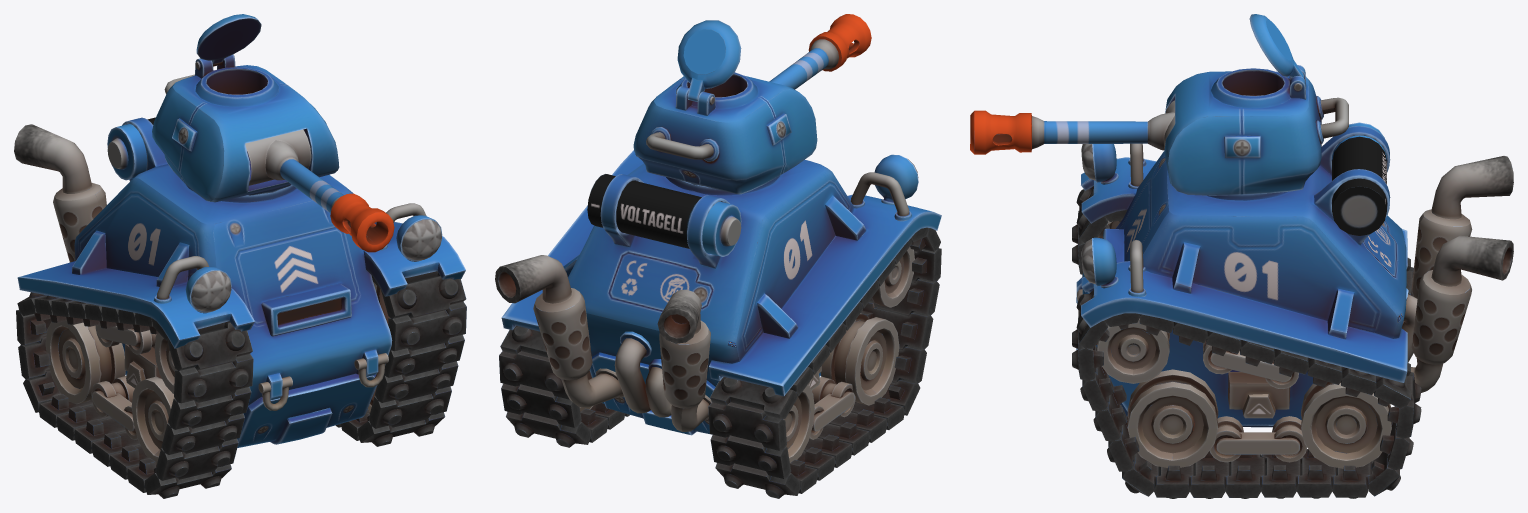
Rendered from LightTank_Full.fbx.
3 renders of one model, left to right at view 1: azimuth 30°, elevation 25°; view 2: azimuth 150°, elevation 25°; view 3: azimuth 270°, elevation 25°, orthographic. The views are drawn at different scales.
Visible parts, largest first — view 1: Body_mesh, TrackRight_mesh, Cupola_mesh, TrackLeft_mesh, Barrel_mesh, Exhaust_mesh, Hatch_mesh, 1.5VBattery_mesh, Hooks_mesh; view 2: Body_mesh, TrackRight_mesh, Cupola_mesh, Exhaust_mesh, TrackLeft_mesh, 1.5VBattery_mesh, Hatch_mesh, Barrel_mesh; view 3: Body_mesh, TrackLeft_mesh, Cupola_mesh, Exhaust_mesh, Barrel_mesh, 1.5VBattery_mesh, Hatch_mesh, TrackRight_mesh.
Part boxes in pixels (left/top/right/bottom): Body_mesh: left=17, top=117, right=465, bottom=464; TrackRight_mesh: left=16, top=292, right=253, bottom=498; Cupola_mesh: left=152, top=54, right=339, bottom=202; TrackLeft_mesh: left=335, top=271, right=466, bottom=446; Barrel_mesh: left=245, top=129, right=394, bottom=252; Exhaust_mesh: left=14, top=124, right=106, bottom=262; Hatch_mesh: left=196, top=14, right=261, bottom=63; 1.5VBattery_mesh: left=107, top=117, right=155, bottom=180; Hooks_mesh: left=258, top=353, right=388, bottom=410; Body_mesh: left=501, top=150, right=941, bottom=462; TrackRight_mesh: left=708, top=227, right=941, bottom=498; Cupola_mesh: left=633, top=72, right=817, bottom=194; Exhaust_mesh: left=495, top=255, right=711, bottom=431; TrackLeft_mesh: left=499, top=325, right=629, bottom=447; 1.5VBattery_mesh: left=587, top=174, right=741, bottom=256; Hatch_mesh: left=677, top=20, right=741, bottom=101; Barrel_mesh: left=769, top=14, right=871, bottom=89; Body_mesh: left=1076, top=126, right=1417, bottom=468; TrackLeft_mesh: left=1072, top=290, right=1421, bottom=498; Cupola_mesh: left=1164, top=65, right=1348, bottom=195; Exhaust_mesh: left=1411, top=156, right=1513, bottom=392; Barrel_mesh: left=970, top=100, right=1174, bottom=154; 1.5VBattery_mesh: left=1332, top=122, right=1386, bottom=235; Hatch_mesh: left=1249, top=14, right=1303, bottom=78; TrackRight_mesh: left=1072, top=186, right=1413, bottom=296.
Size of what is drawn, in the model's own units: 88.65 by 121 by 144.
